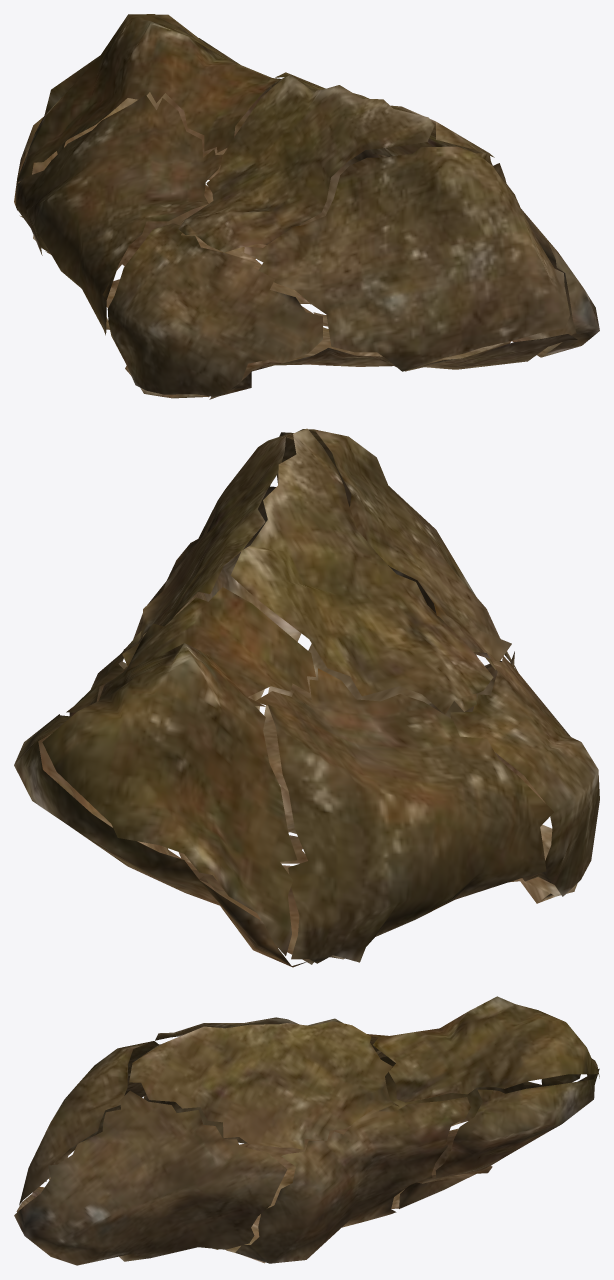
Rendered from rock_moss_set_01_rock01.glb.
3 renders of one model, top to bottom at view 1: azimuth 30°, elevation 25°; view 2: azimuth 150°, elevation 25°; view 3: azimuth 270°, elevation 25°, orthographic. The views are drawn at different scales.
Parts seen in each view (by area): view 1: rock_moss_set_01_rock01; view 2: rock_moss_set_01_rock01; view 3: rock_moss_set_01_rock01.
Boxes of the visible parts, <box> form: rock_moss_set_01_rock01: <box>14,14,599,399</box>; rock_moss_set_01_rock01: <box>14,428,599,967</box>; rock_moss_set_01_rock01: <box>14,996,599,1265</box>.
Bounding box in the file's own units: 2.22 × 1.45 × 3.36.
1 material, 1 textured.
